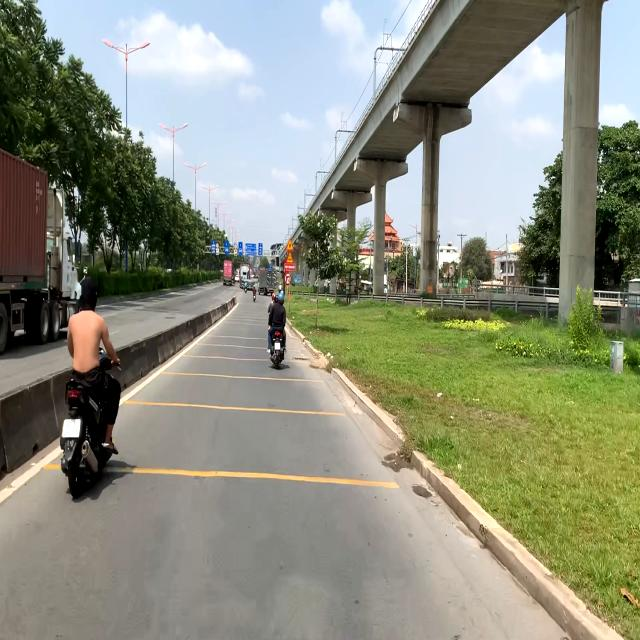P.123b: (284, 272, 292, 286)
W.207b: (286, 238, 294, 250)
W.245a: (286, 252, 294, 263)
